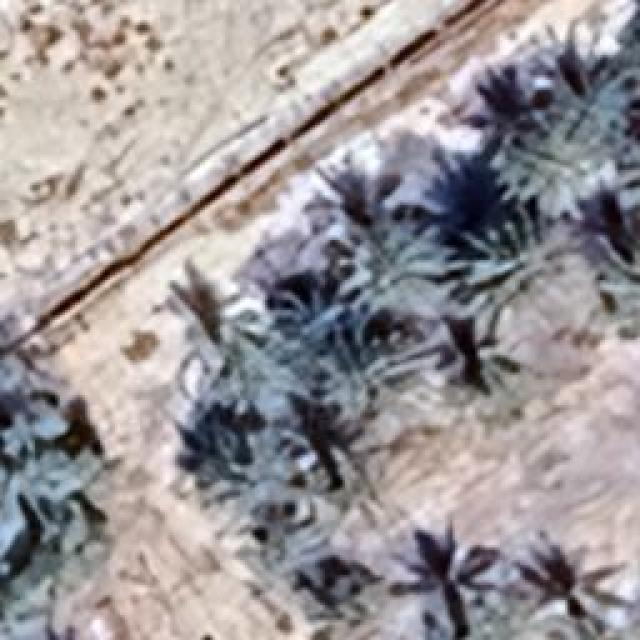PalmTree: (108, 83, 459, 590), (88, 100, 335, 595), (438, 220, 582, 348), (155, 265, 275, 405), (190, 425, 328, 540), (318, 328, 458, 440), (342, 208, 456, 312), (492, 118, 592, 218), (0, 405, 70, 545), (460, 582, 552, 638), (558, 74, 628, 138), (284, 288, 354, 352), (550, 604, 638, 638), (598, 238, 638, 312), (612, 128, 638, 222)
